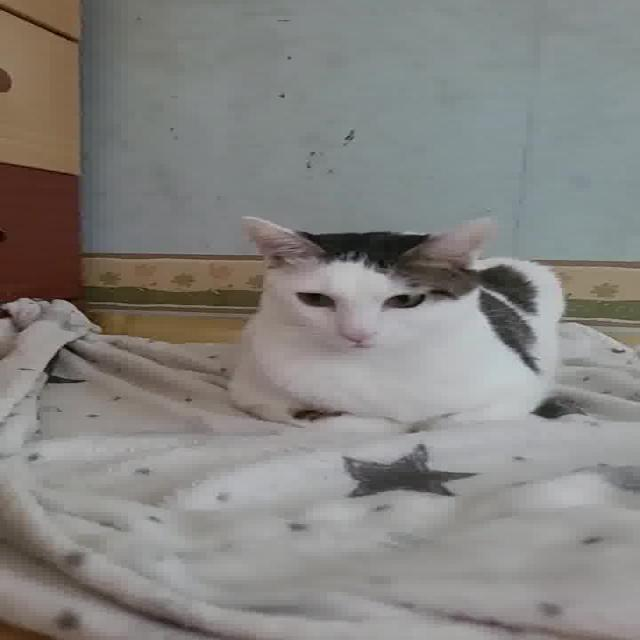cat: (205, 203, 582, 440)
